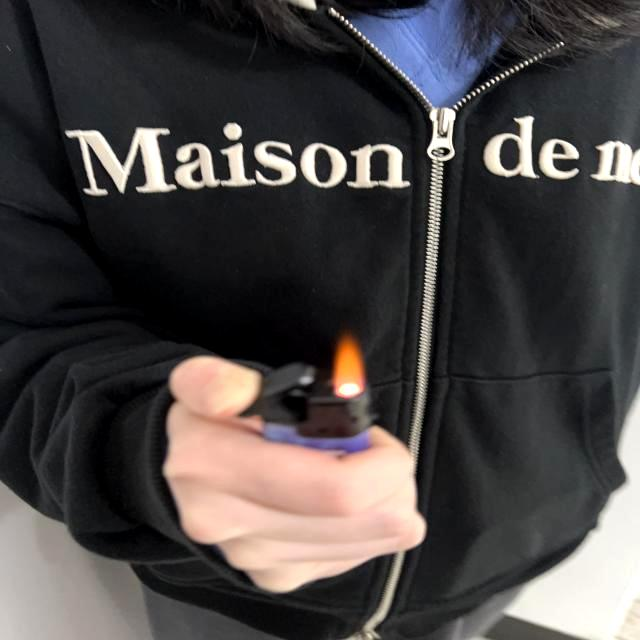fire: (332, 330, 364, 398)
